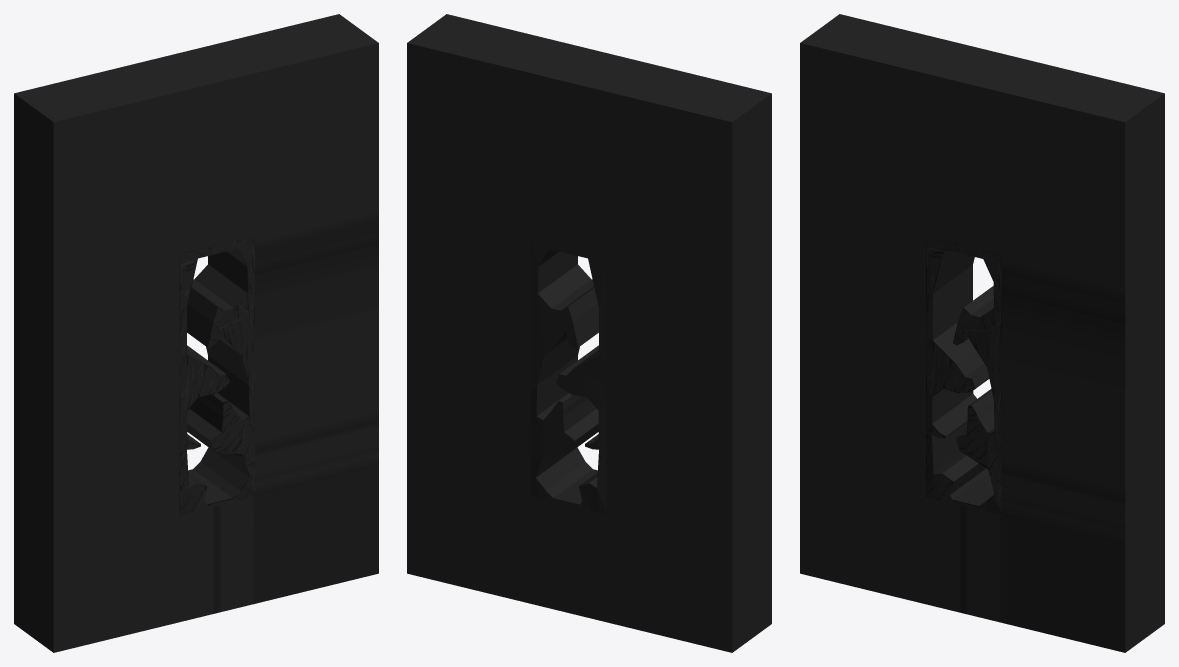
The picture shows the model from 3 angles, left to right: view 1: azimuth 30°, elevation 25°; view 2: azimuth 150°, elevation 25°; view 3: azimuth 330°, elevation 25°; orthographic projection.
Parts seen in each view (by area): view 1: Cube; view 2: Cube; view 3: Cube.
Boxes of the visible parts, left/top/right/bottom form: Cube: left=14, top=14, right=378, bottom=652; Cube: left=407, top=14, right=771, bottom=652; Cube: left=800, top=14, right=1164, bottom=652.
Size of the model in its own units: 7266 by 11332 by 1609.
Materials: 1 (1 with a texture image).
